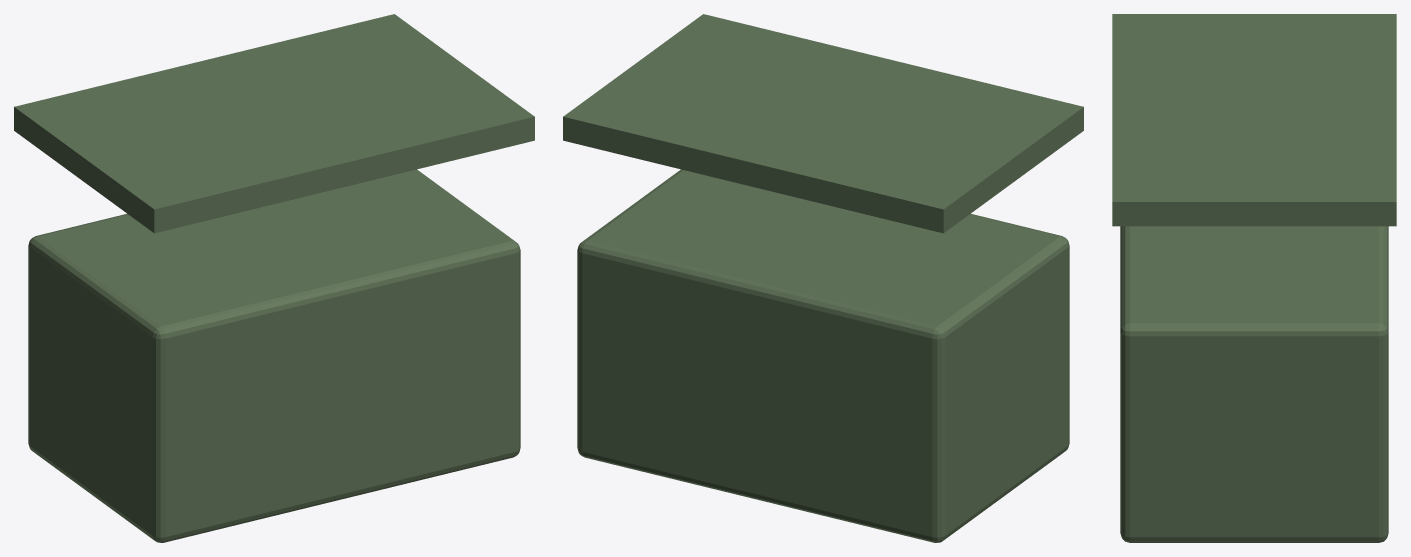
The model's file is SM_survivor_ammo_crate_1791739731.fbx.
3 views of the same model, side by side, from view 1: azimuth 30°, elevation 25°; view 2: azimuth 150°, elevation 25°; view 3: azimuth 270°, elevation 25° (orthographic).
Visible parts, largest first — view 1: SM_survivor_ammo_crate_1791739731, SM_survivor_ammo_crate_1791739731_Lid; view 2: SM_survivor_ammo_crate_1791739731, SM_survivor_ammo_crate_1791739731_Lid; view 3: SM_survivor_ammo_crate_1791739731, SM_survivor_ammo_crate_1791739731_Lid.
Boxes of the visible parts, box(x1,y1,x2,y2) form: SM_survivor_ammo_crate_1791739731: box(28, 169, 520, 542); SM_survivor_ammo_crate_1791739731_Lid: box(14, 14, 534, 233); SM_survivor_ammo_crate_1791739731: box(577, 169, 1069, 542); SM_survivor_ammo_crate_1791739731_Lid: box(563, 14, 1083, 233); SM_survivor_ammo_crate_1791739731: box(1120, 226, 1388, 542); SM_survivor_ammo_crate_1791739731_Lid: box(1112, 14, 1396, 226).
Size of what is drawn, in the model's own units: 83 by 53 by 71.5.
